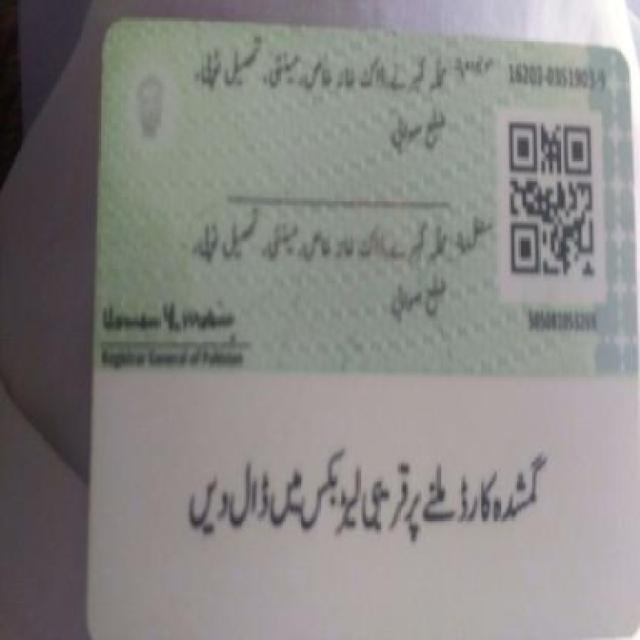Back: (85, 11, 637, 631)
